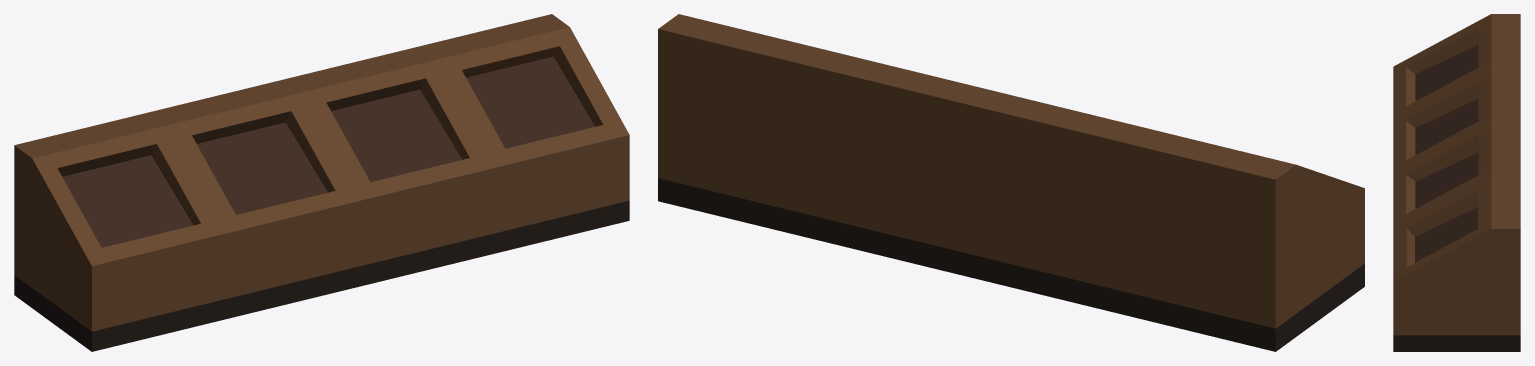
The model's file is bacsBois_x4.fbx.
3 renders of one model, left to right at view 1: azimuth 30°, elevation 25°; view 2: azimuth 150°, elevation 25°; view 3: azimuth 270°, elevation 25°, orthographic. The views are drawn at different scales.
Visible parts, largest first — view 1: Cube.008; view 2: Cube.008; view 3: Cube.008.
Part boxes in pixels (left/top/right/bottom): Cube.008: left=14, top=14, right=629, bottom=351; Cube.008: left=658, top=14, right=1364, bottom=351; Cube.008: left=1393, top=14, right=1520, bottom=351.
Size of the model in its own units: 400 by 107 by 100.
